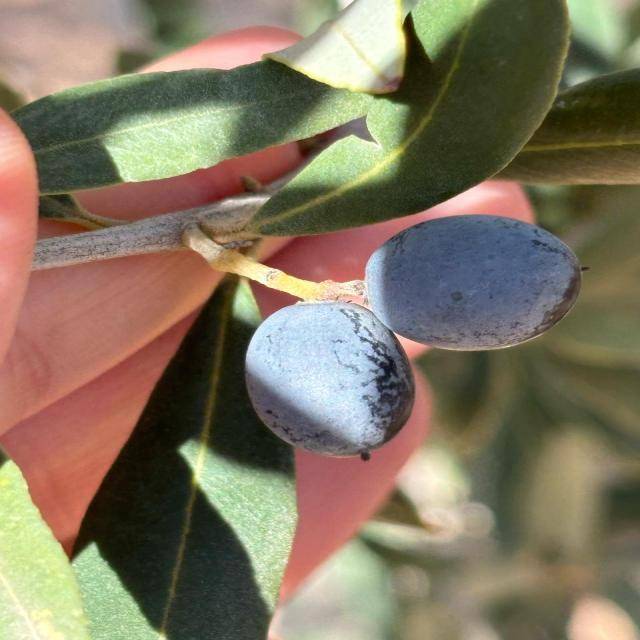Healthy: (246, 214, 583, 458)
